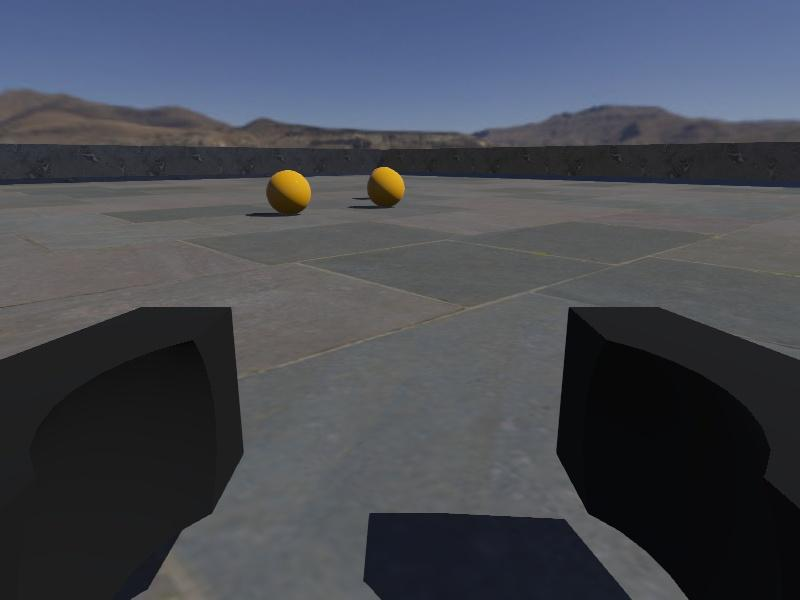orange ball: (265, 169, 312, 217), (366, 167, 406, 210)
